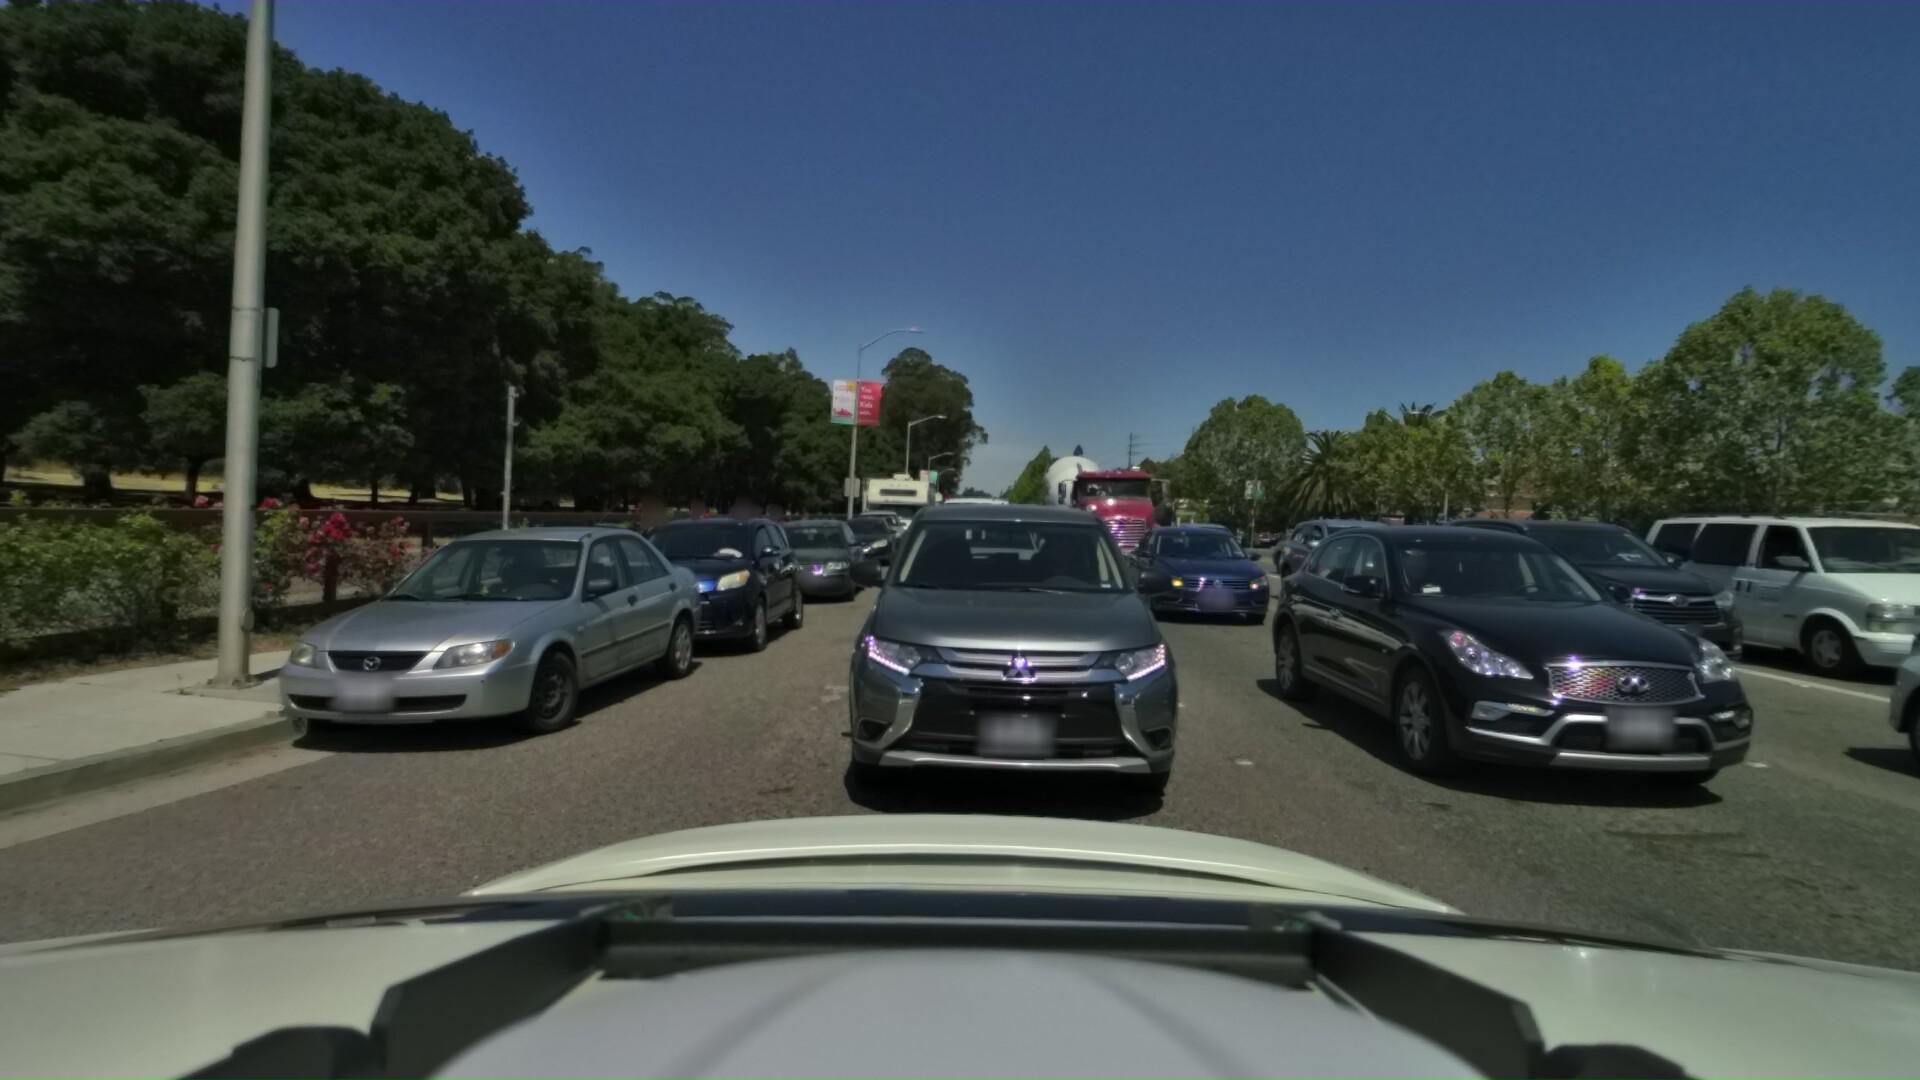car: (1250, 513, 1818, 829), (799, 459, 1229, 851), (236, 517, 713, 765), (1395, 504, 1776, 690), (1596, 497, 1920, 686), (1803, 524, 1920, 1038), (592, 508, 814, 658), (1269, 509, 1447, 615), (1117, 518, 1284, 630), (894, 491, 1025, 626), (752, 513, 868, 607), (922, 487, 1021, 571), (1149, 512, 1244, 568), (1236, 522, 1335, 572), (847, 493, 913, 556), (829, 506, 901, 564)
other_vehicle: (1027, 419, 1193, 582), (853, 450, 942, 550), (1025, 431, 1112, 520)
